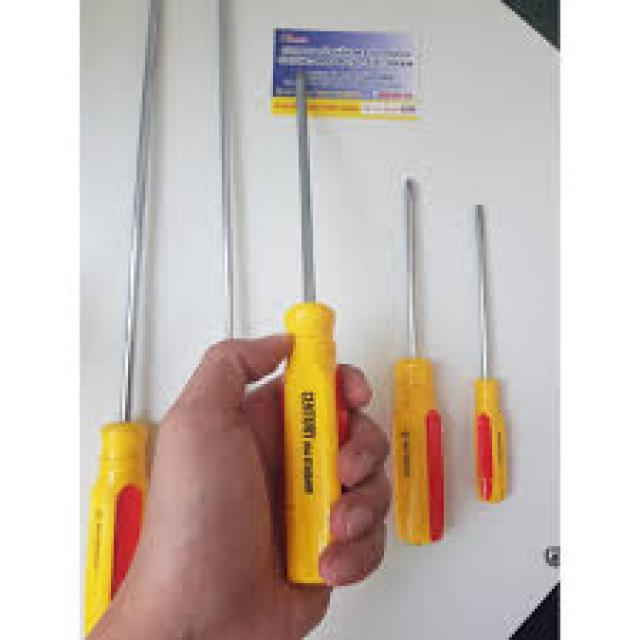screwdriver: (82, 0, 165, 637), (276, 62, 353, 598), (386, 176, 449, 546), (472, 196, 509, 504)
